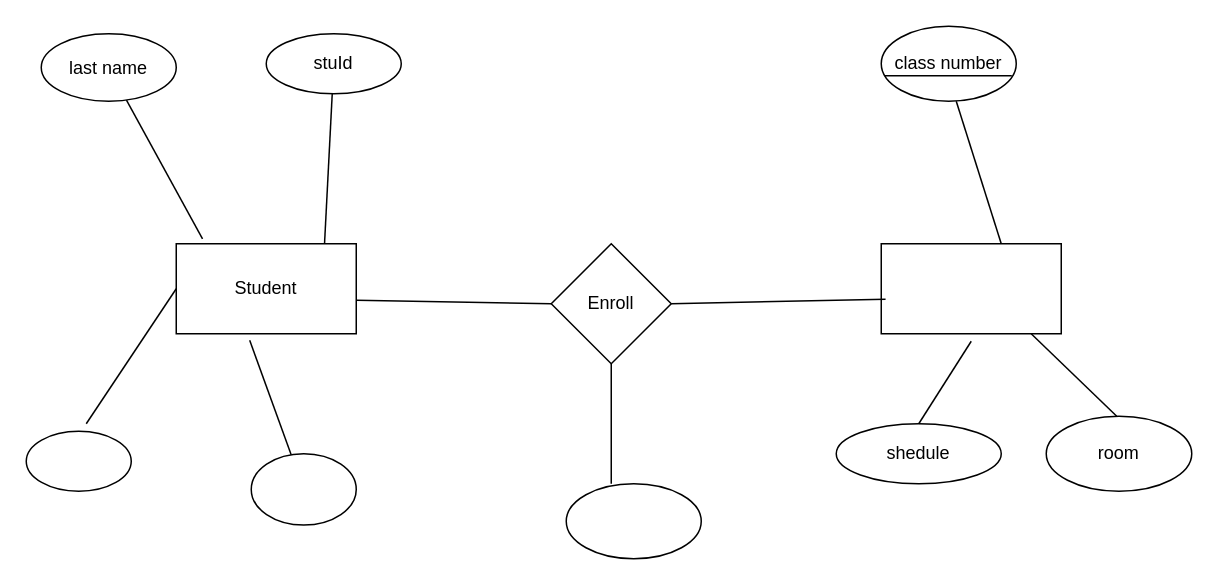
Image size: 1218x585. Some labels were removed from this diagram. The shapes that lost their labels are listed below. From the top down, each one's centre as x and y in pixels, then its label:
(x=970, y=288): Class
(x=78, y=460): first name
(x=303, y=488): credits
(x=633, y=520): grade
